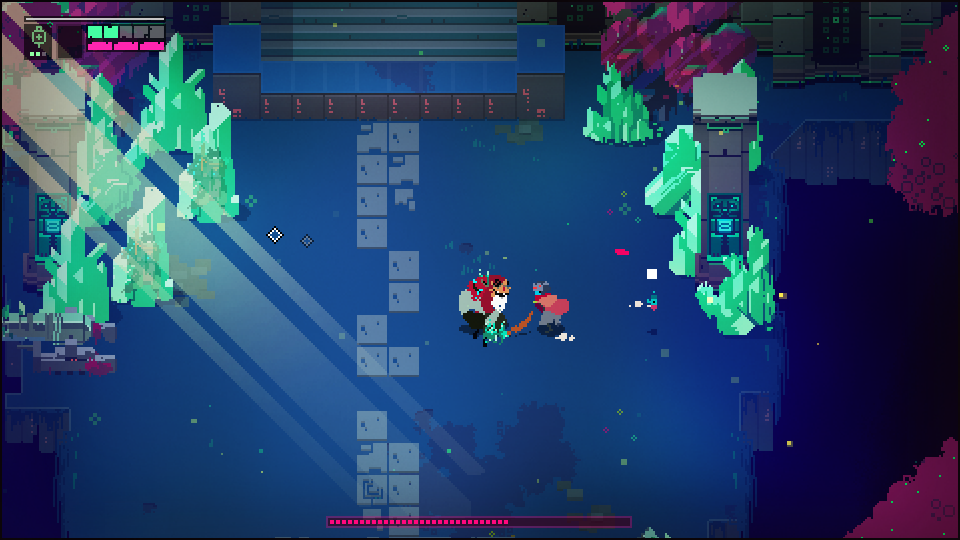hanged_man: (449, 270, 524, 349)
player: (528, 280, 567, 332)
